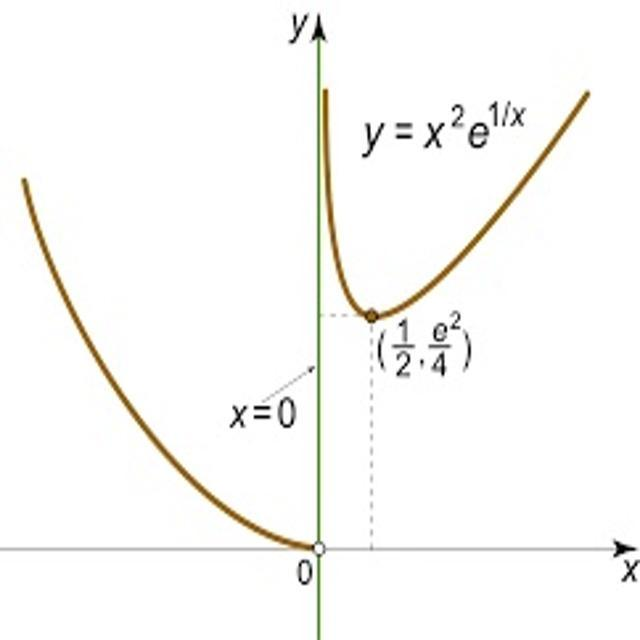axis: (312, 0, 325, 640), (0, 544, 640, 555)
line: (14, 172, 327, 562), (315, 81, 603, 330)
